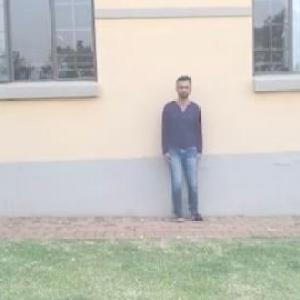follow: (159, 74, 203, 224)
